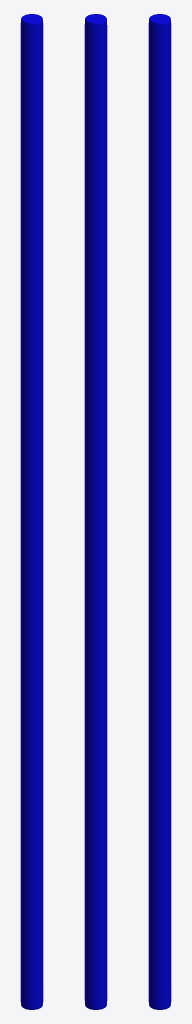
File: rope.fbx
The picture shows the model from 3 angles, left to right: view 1: azimuth 90°, elevation 25°; view 2: azimuth 210°, elevation 25°; view 3: azimuth 270°, elevation 25°; orthographic projection.
Parts seen in each view (by area): view 1: Rope; view 2: Rope; view 3: Rope.
Part boxes in pixels (x1=…): Rope: x1=20, y1=14, x2=43, y2=1009; Rope: x1=84, y1=14, x2=107, y2=1009; Rope: x1=148, y1=14, x2=171, y2=1009.
Bounding box in the file's own units: 0.1591 × 7.68 × 0.1591.
